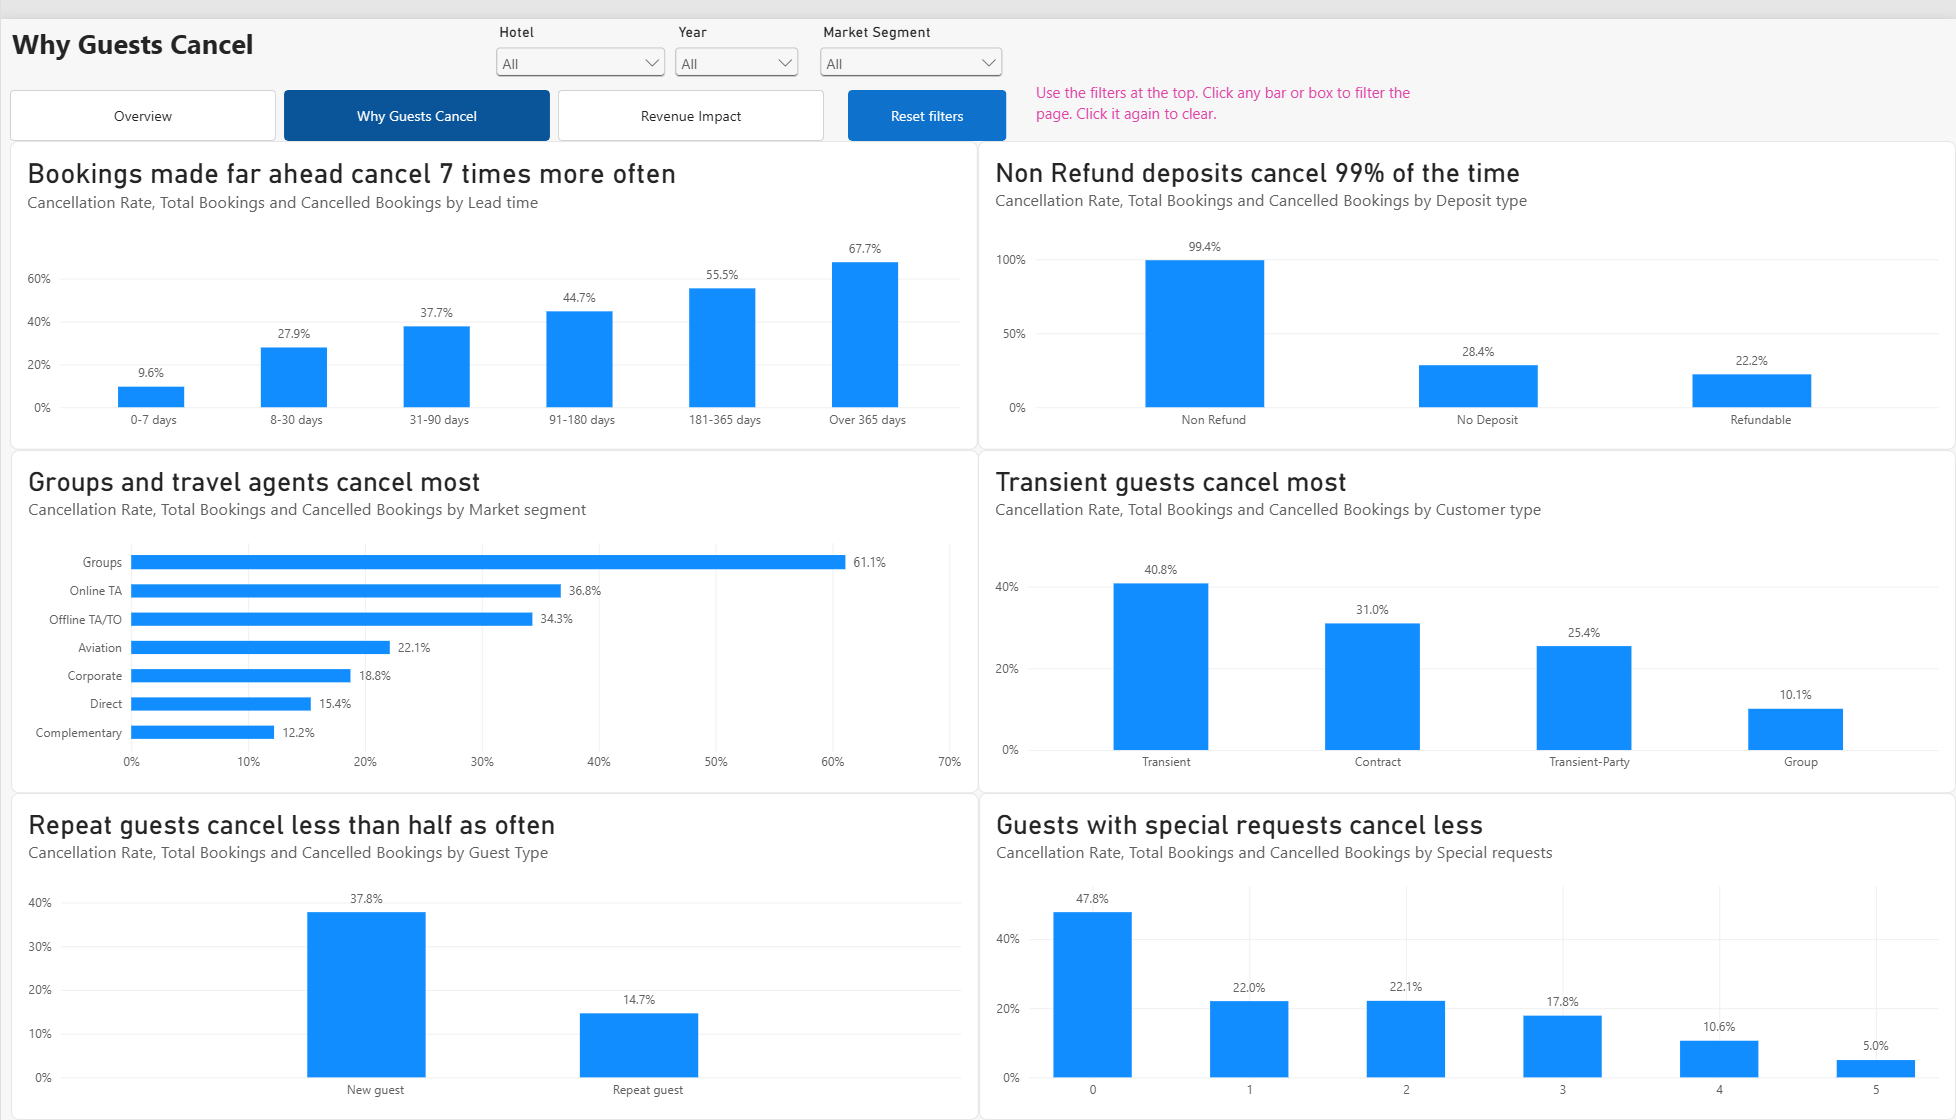

The dashboard page shown, as its layout file describes it:
{"tool":"powerbi","page":{"name":"Why Guests Cancel","canvas":[1920,1080],"ordinal":2},"visuals":[{"type":"textbox","box":[10.5,5.2,470.3,81.9],"z":0},{"type":"slicer","fields":{"Values":["Bookings.hotel"]},"box":[480.8,5.2,176.4,73.5],"z":1000},{"type":"slicer","fields":{"Values":["Date.Year"]},"box":[657.1,5.2,131.2,68.2],"z":2000},{"type":"slicer","fields":{"Values":["Bookings.market_segment"]},"box":[798.9,5.2,189,73.5],"z":3000},{"type":"clusteredColumnChart","title":"Bookings made far ahead cancel 7 times more often","fields":{"Category":["Bookings.lead_time_band"],"Y":["_Measures.Cancellation Rate"]},"box":[8.9,120,950,303.3],"z":4000},{"type":"clusteredColumnChart","title":"Non Refund deposits cancel 99% of the time","fields":{"Category":["Bookings.deposit_type"],"Y":["_Measures.Cancellation Rate"]},"box":[958.9,120,960,303.3],"z":5000},{"type":"clusteredBarChart","title":"Groups and travel agents cancel most","fields":{"Category":["Bookings.market_segment"],"Y":["_Measures.Cancellation Rate"]},"box":[10,423.3,950,335.6],"z":6000},{"type":"clusteredColumnChart","title":"Transient guests cancel most","fields":{"Category":["Bookings.customer_type"],"Y":["_Measures.Cancellation Rate"]},"box":[958.9,423.3,960,335.6],"z":7000},{"type":"clusteredColumnChart","title":"Repeat guests cancel less than half as often","fields":{"Category":["Bookings.Guest Type"],"Y":["_Measures.Cancellation Rate"]},"box":[10,758.9,950,321.1],"z":8000},{"type":"clusteredColumnChart","title":"Guests with special requests cancel less","fields":{"Category":["Bookings.total_of_special_requests"],"Y":["_Measures.Cancellation Rate"]},"box":[960,758.9,958.9,321.1],"z":9000},{"type":"pageNavigator","box":[8.9,70,800,50],"z":9001},{"type":"textbox","box":[1016,61.8,388.7,50.1],"z":9003},{"type":"actionButton","box":[831.4,69.7,155.6,50],"z":9004}]}

Visuals, with their boxes in screenshot pixels (x1, y1, x2, y2), scaled from the page's 1920x1080 canvas onto the 1956x1120 screenshot:
textbox: rect(11, 5, 490, 90)
slicer - Bookings.hotel: rect(490, 5, 670, 82)
slicer - Date.Year: rect(669, 5, 803, 76)
slicer - Bookings.market_segment: rect(814, 5, 1006, 82)
"Bookings made far ahead cancel 7 times more often" clusteredColumnChart: rect(9, 124, 977, 439)
"Non Refund deposits cancel 99% of the time" clusteredColumnChart: rect(977, 124, 1955, 439)
"Groups and travel agents cancel most" clusteredBarChart: rect(10, 439, 978, 787)
"Transient guests cancel most" clusteredColumnChart: rect(977, 439, 1955, 787)
"Repeat guests cancel less than half as often" clusteredColumnChart: rect(10, 787, 978, 1119)
"Guests with special requests cancel less" clusteredColumnChart: rect(978, 787, 1955, 1119)
pageNavigator: rect(9, 73, 824, 124)
textbox: rect(1035, 64, 1431, 116)
actionButton: rect(847, 72, 1006, 124)
